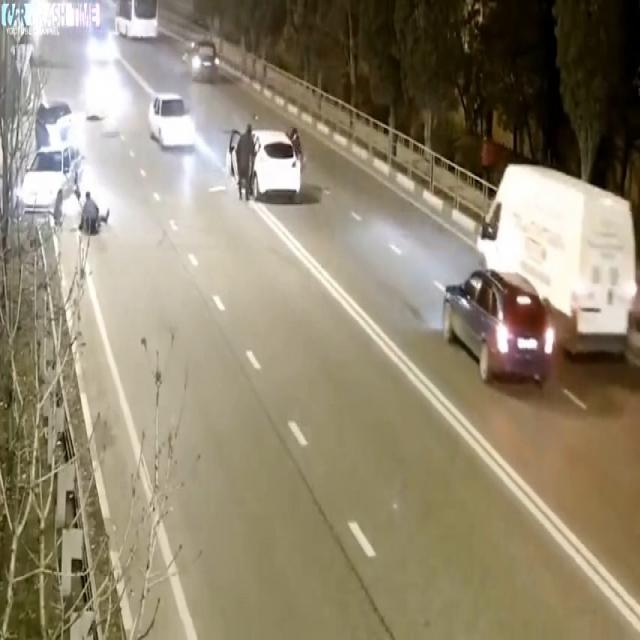Accident: (13, 94, 101, 222)
